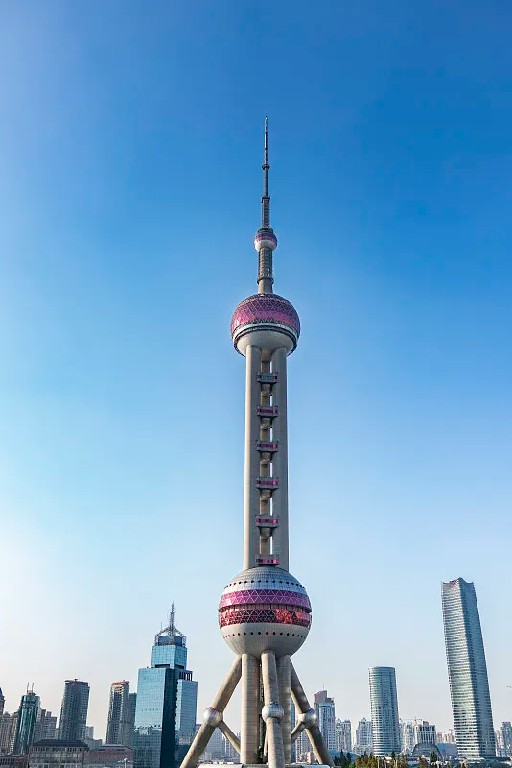Oriental: (179, 117, 334, 767)
